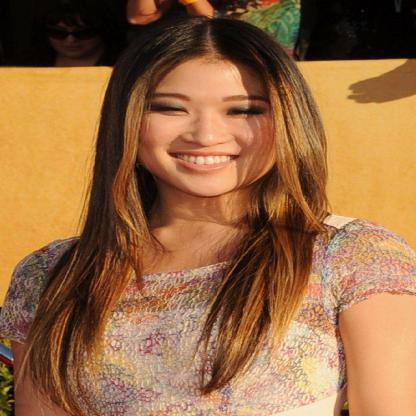long-hair: (79, 198, 336, 243)
